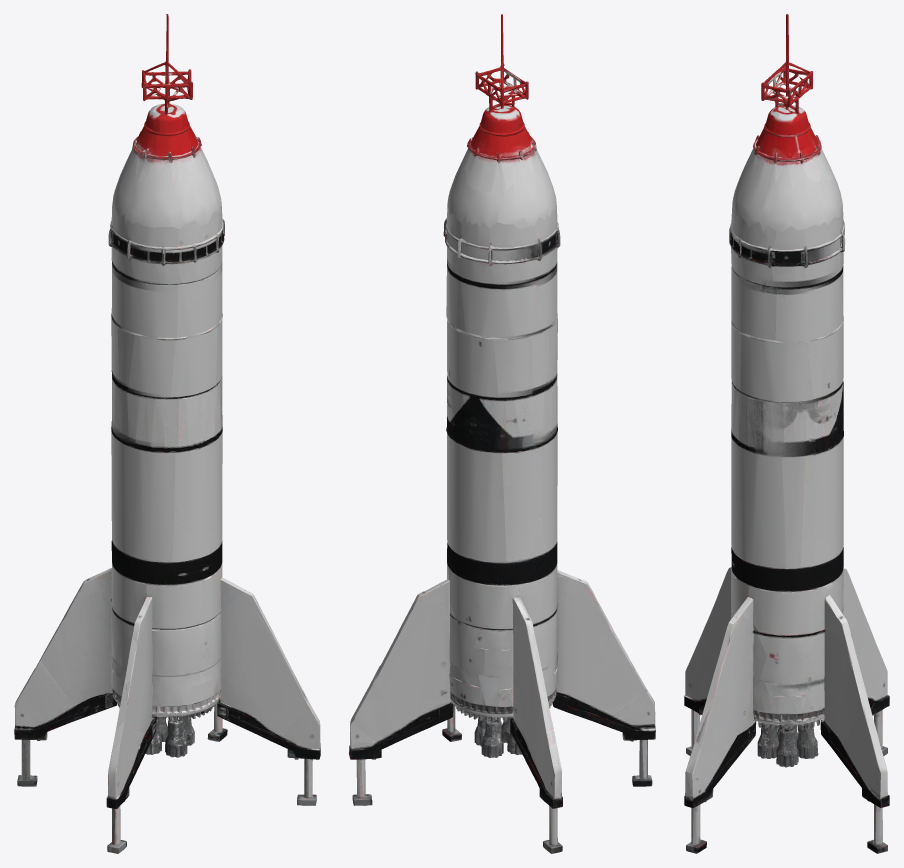
The model's file is rocket.glb.
3 views of the same model, side by side, from view 1: azimuth 30°, elevation 25°; view 2: azimuth 150°, elevation 25°; view 3: azimuth 270°, elevation 25° (orthographic).
Size of the model in its own units: 0.5465 by 1.9 by 0.4493.
Materials: 1 (1 with a texture image).
